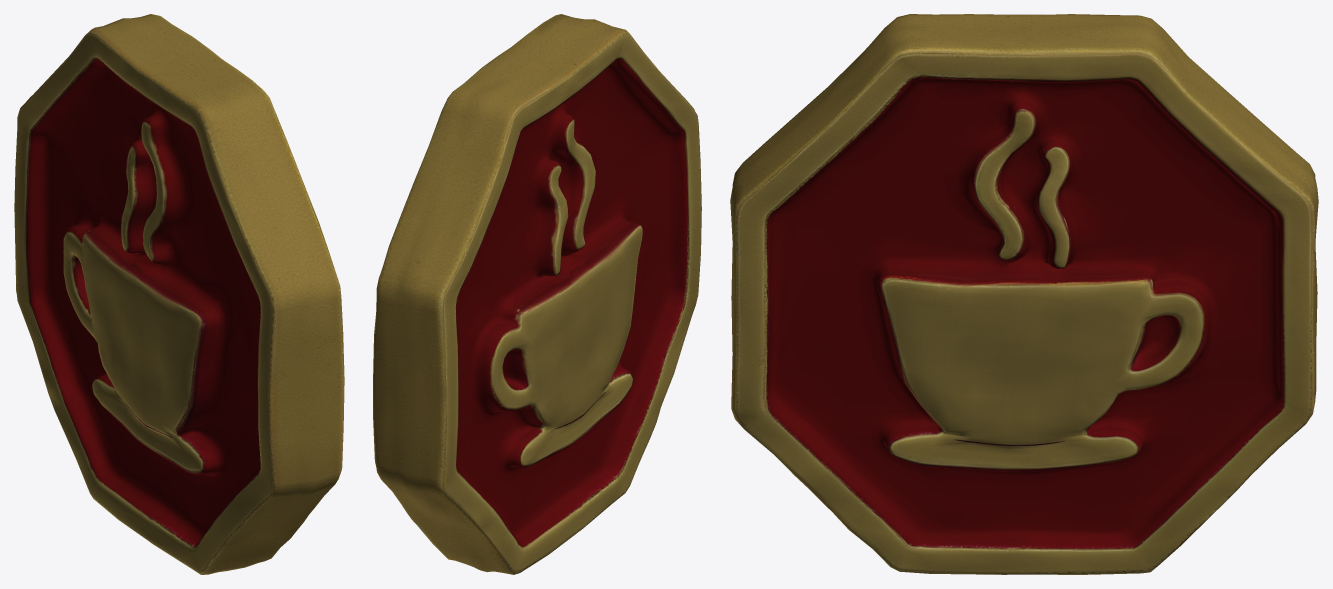
3 renders of one model, left to right at view 1: azimuth 30°, elevation 25°; view 2: azimuth 150°, elevation 25°; view 3: azimuth 270°, elevation 25°, orthographic. The views are drawn at different scales.
Visible parts, largest first — view 1: tripo_node_a09211ab-474a-4dc9-a701-7cc5f87c0e67; view 2: tripo_node_a09211ab-474a-4dc9-a701-7cc5f87c0e67; view 3: tripo_node_a09211ab-474a-4dc9-a701-7cc5f87c0e67.
Boxes of the visible parts, x1=… form: tripo_node_a09211ab-474a-4dc9-a701-7cc5f87c0e67: x1=14, y1=14, x2=344, y2=574; tripo_node_a09211ab-474a-4dc9-a701-7cc5f87c0e67: x1=373, y1=14, x2=701, y2=574; tripo_node_a09211ab-474a-4dc9-a701-7cc5f87c0e67: x1=730, y1=14, x2=1318, y2=574.
Size of the model in its own units: 0.2176 by 1 by 1.
Materials: 1 (1 with a texture image).
